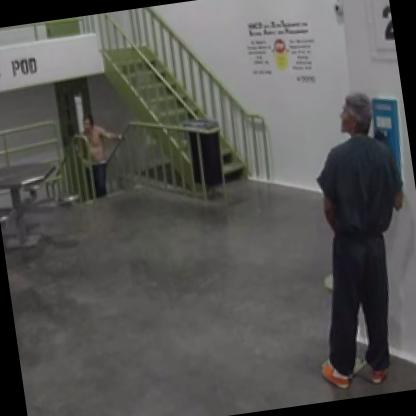Human Body: (273, 82, 415, 398), (62, 101, 136, 203)
